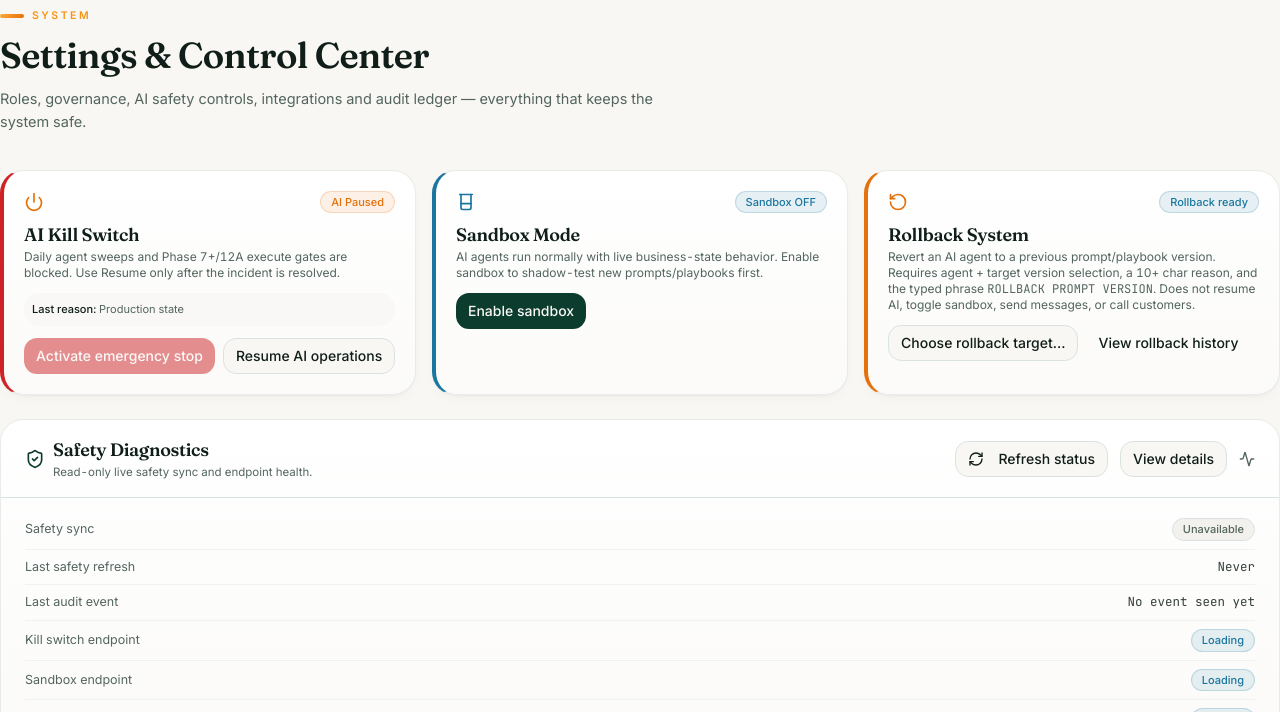
Test: Phase 15A — RollbackHistoryModal states › shows loading state while history is being fetched
Click the button with test id "settings-rollback-history-open". click: click(1169, 343)
box: [1086,325,1251,361]
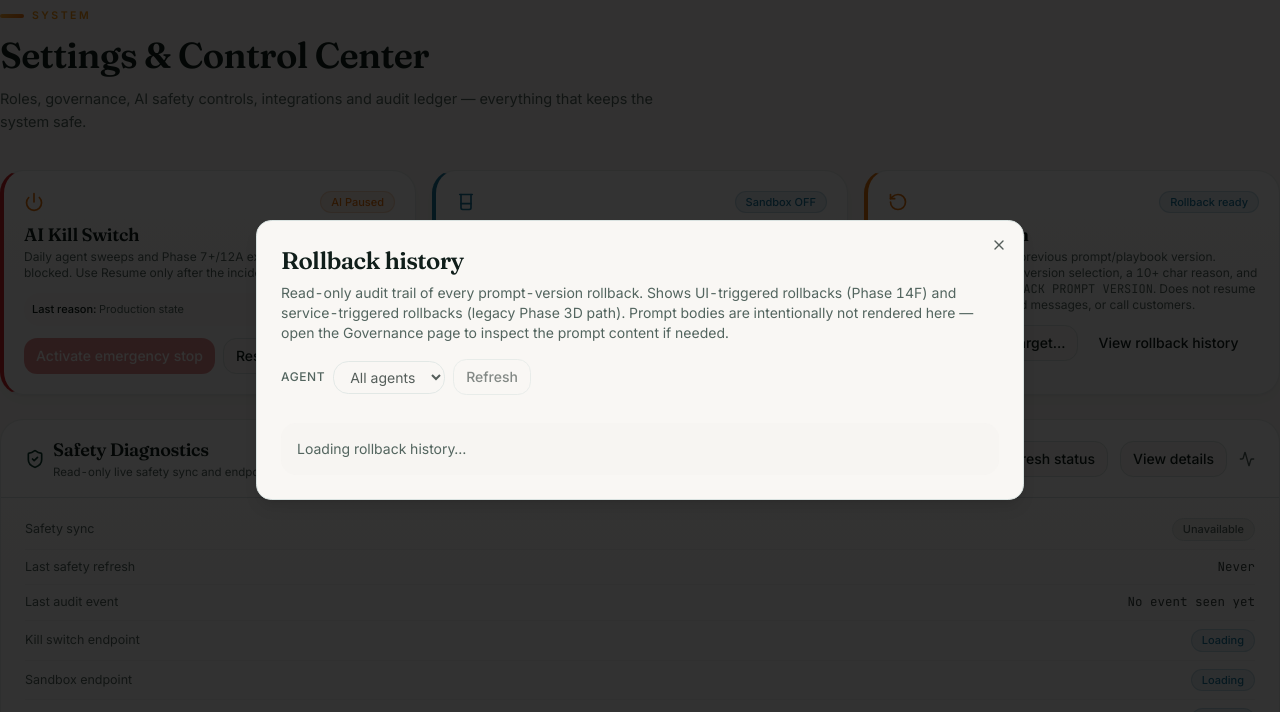
Now the text "Loading rollback history…" is shown, box [281,423,999,475]
